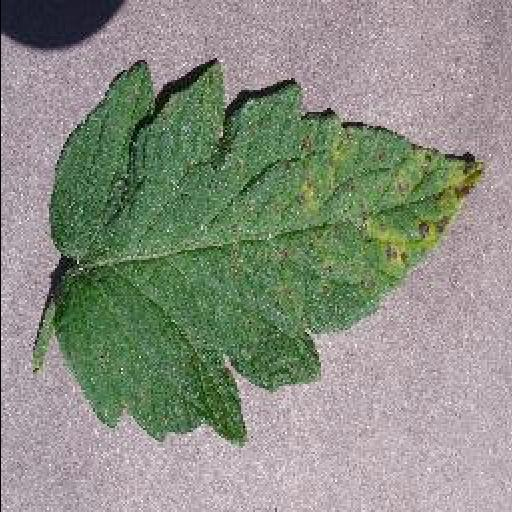disease_tomato: (48, 59, 490, 448)
